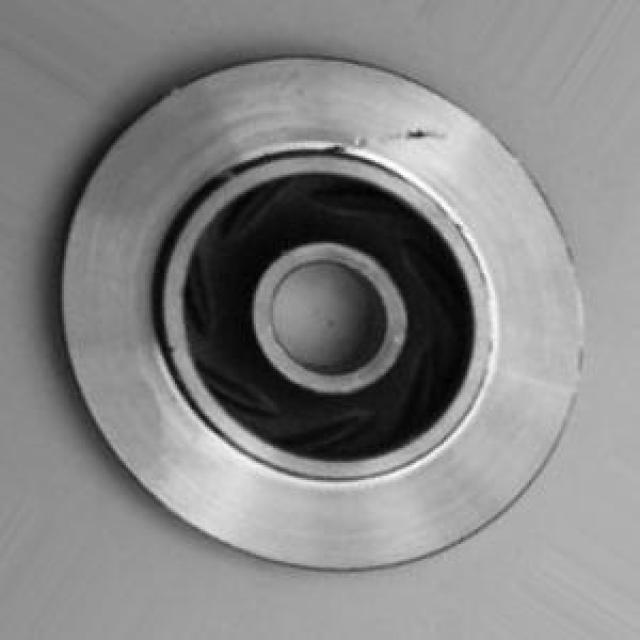Defect: (400, 115, 436, 162)
